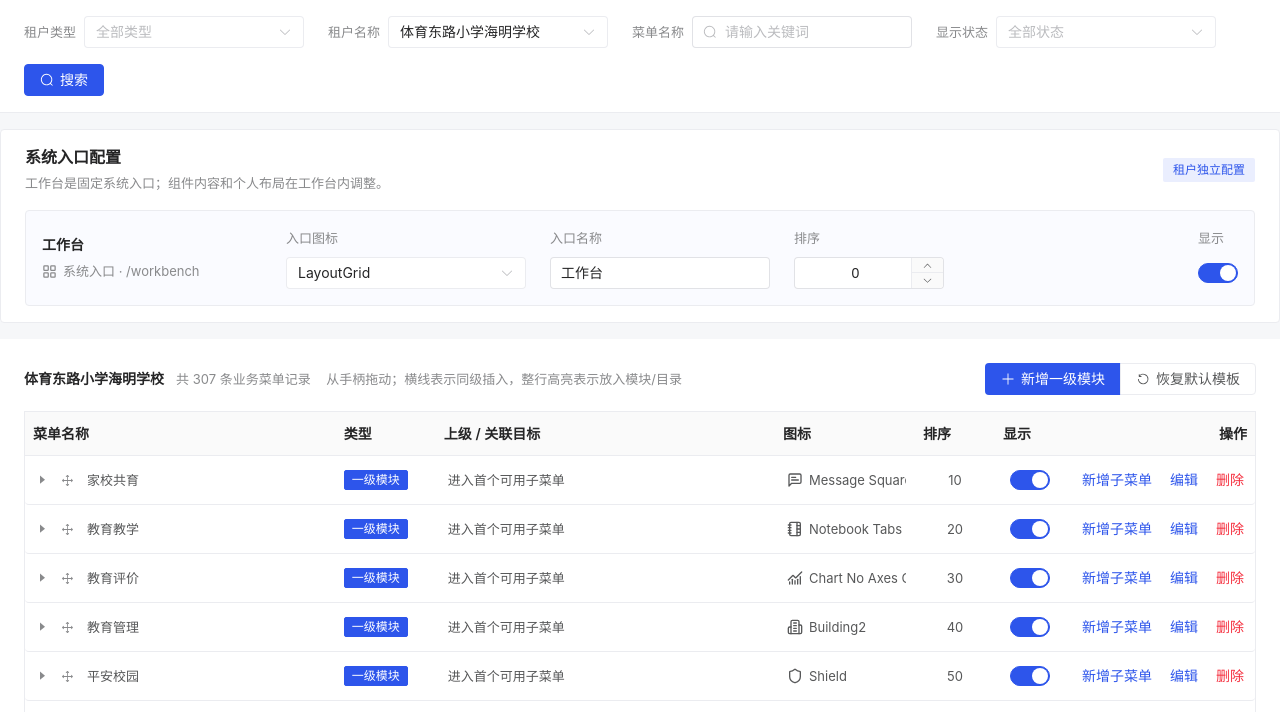
Test: MenuConfigView › only expands manually and keeps that state after menu data changes
Click the 1st button named "展开菜单": (42, 480) 33,471 -> 51,489
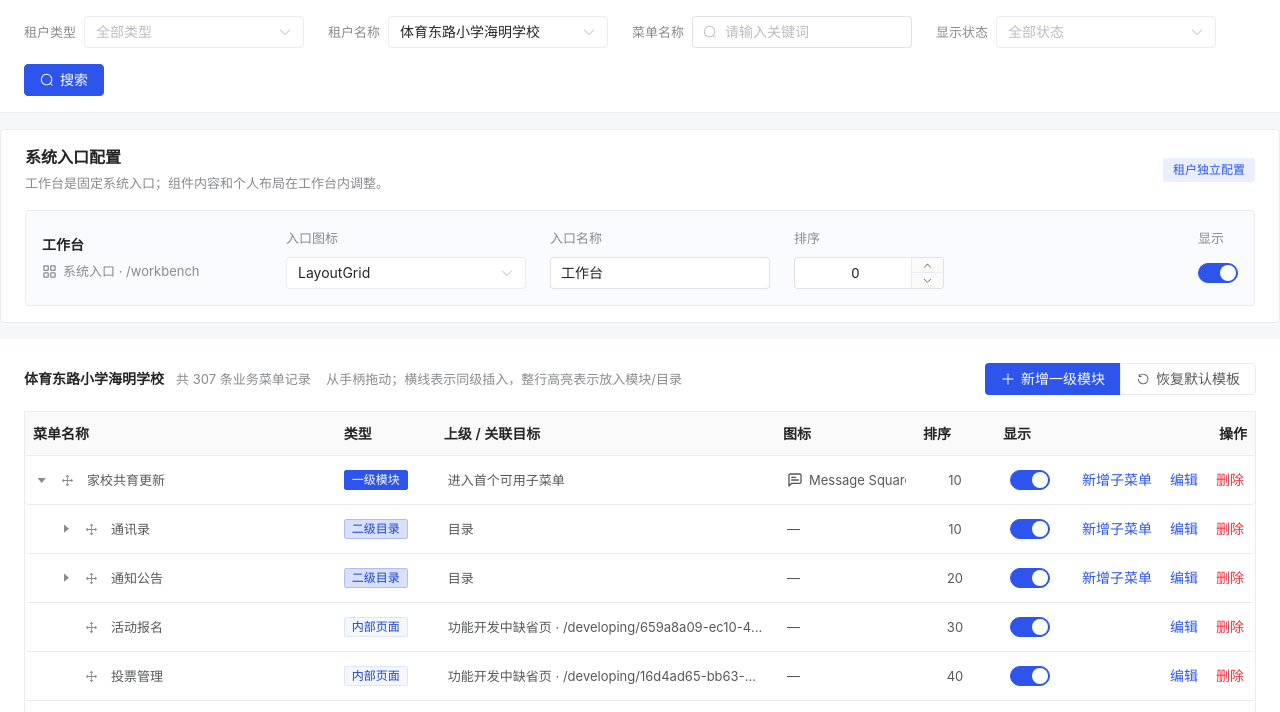
Check: the text "通知公告" is shown, box 107,564 -> 167,592
